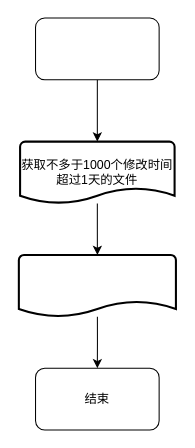
The diagram is 195 pixels wide and 448 high, and some of its shapes have lost their labels. The box of each missing label's shape, as (x1, y1, x2, y2) in pixels:
删除: (17, 253, 176, 317)
开始: (35, 17, 159, 80)
